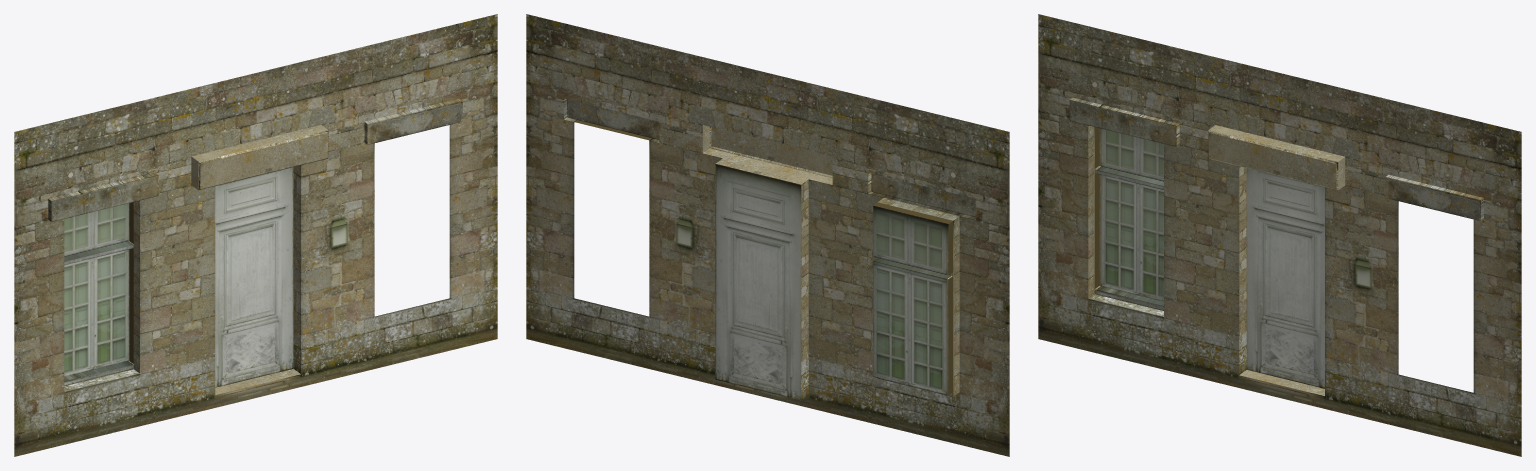
The model's file is fachada_v1.fbx.
3 renders of one model, left to right at view 1: azimuth 30°, elevation 25°; view 2: azimuth 150°, elevation 25°; view 3: azimuth 330°, elevation 25°, orthographic.
Visible parts, largest first — view 1: Fachada, ventana; view 2: Fachada, ventana; view 3: Fachada, ventana.
Part boxes in pixels (x1,y1,x2,y2): Fachada: (14, 14, 497, 456); ventana: (64, 202, 133, 385); Fachada: (526, 14, 1009, 456); ventana: (873, 202, 953, 396); Fachada: (1038, 14, 1521, 456); ventana: (1094, 127, 1163, 310).
Size of the model in its own units: 156 by 100 by 10.51.
1 material, 1 textured.
